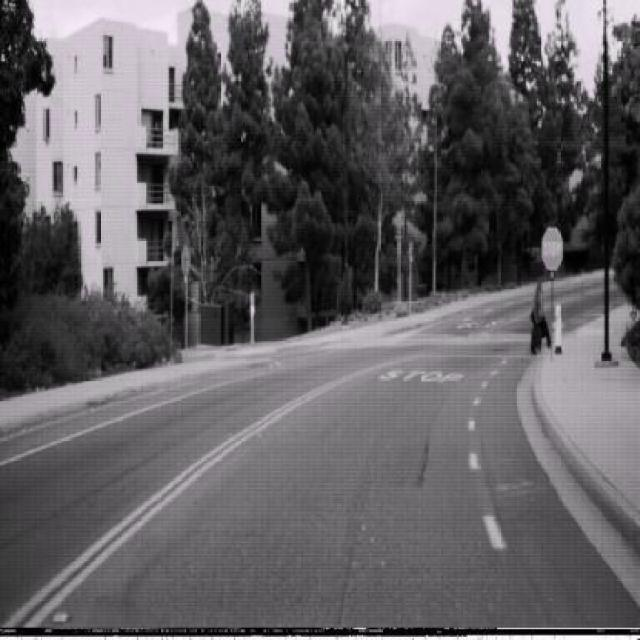stop: (540, 226, 563, 271)
